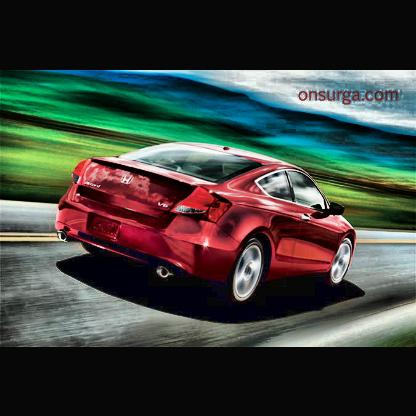Honda Accord Coupe 2012: (57, 136, 358, 302)
